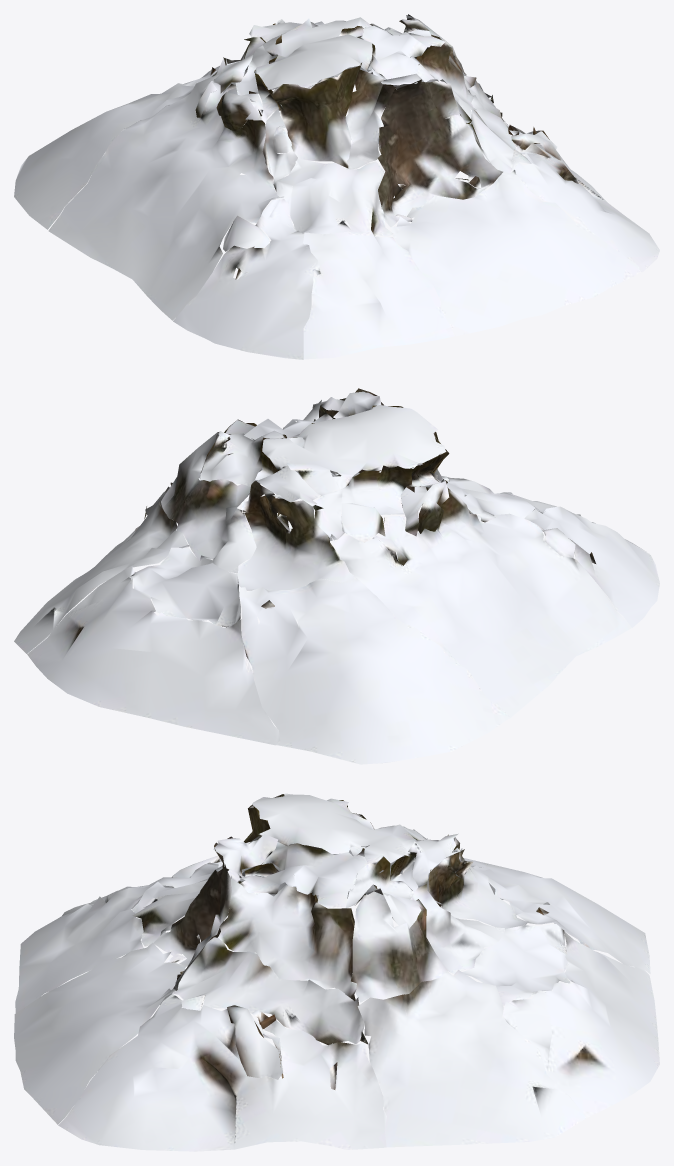
Rendered from tree_stump_01.glb.
The picture shows the model from 3 angles, top to bottom: view 1: azimuth 30°, elevation 25°; view 2: azimuth 150°, elevation 25°; view 3: azimuth 270°, elevation 25°; orthographic projection. The views are drawn at different scales.
Parts seen in each view (by area): view 1: tree_stump_01; view 2: tree_stump_01; view 3: tree_stump_01.
Part boxes in pixels (x1,y1,x2,y2): tree_stump_01: [14, 14, 659, 359]; tree_stump_01: [14, 388, 659, 764]; tree_stump_01: [14, 793, 659, 1151].
Bounding box in the file's own units: 1.42 × 0.571 × 1.59.
Materials: 1 (1 with a texture image).
